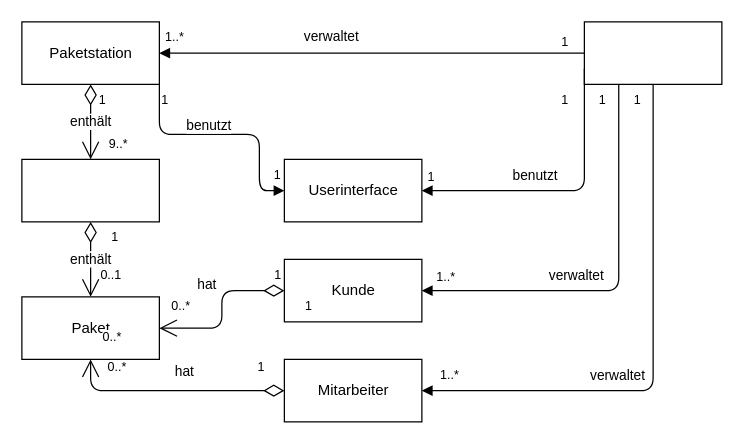
Image size: 744x444. Some labels were removed from this diagram. Each missing label, with the centre of its shape:
Controller: (652,52)
Fach: (90,190)
